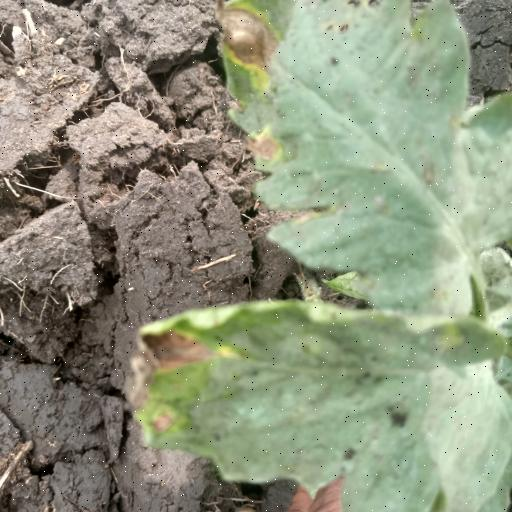Tomato_Mosaic: (214, 0, 512, 323), (130, 291, 512, 512)
